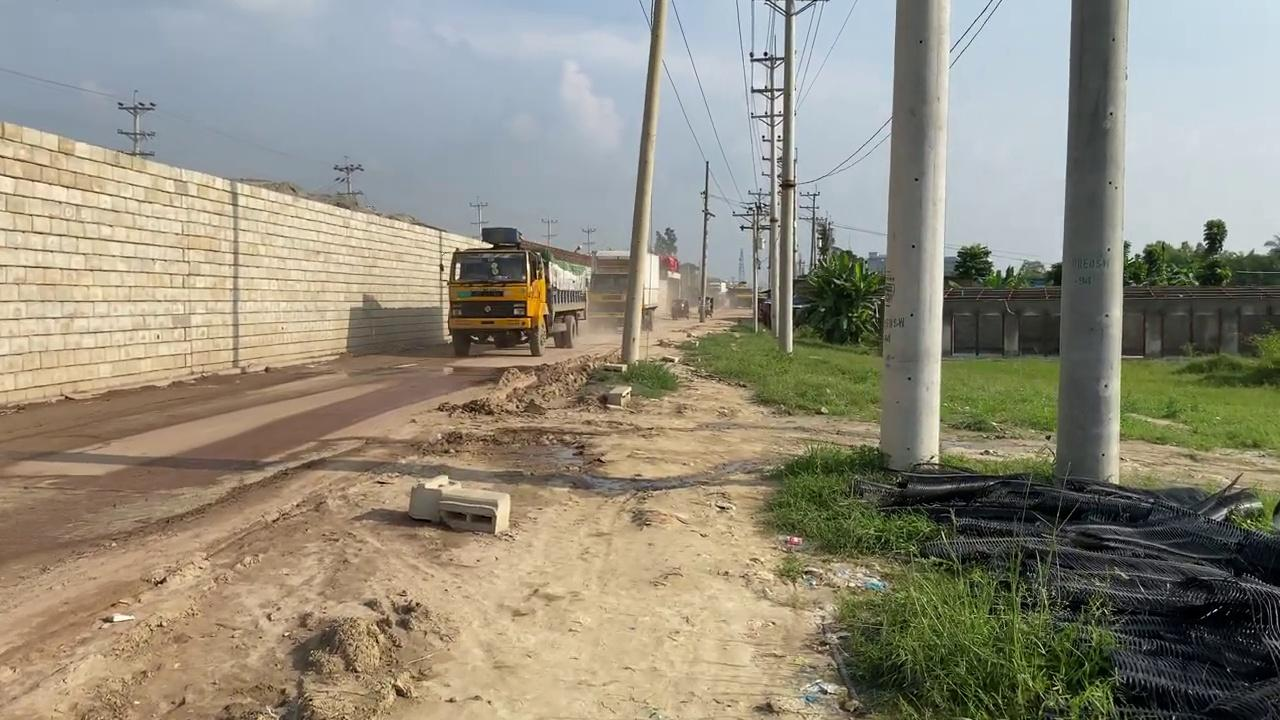Car: (758, 289, 816, 329)
Garbage: (851, 461, 1279, 718)
Obstacle: (406, 475, 511, 536)
Pole: (1053, 0, 1129, 484), (878, 0, 950, 471), (619, 0, 667, 366), (776, 1, 796, 354), (698, 160, 710, 322)
Rickshaw: (342, 310, 825, 714)
Traffic-sign: (792, 248, 885, 345), (951, 241, 992, 285), (1202, 217, 1227, 256)
Tree: (444, 226, 590, 357), (587, 249, 660, 326), (726, 280, 753, 308)
Upstairs: (0, 118, 496, 407)
